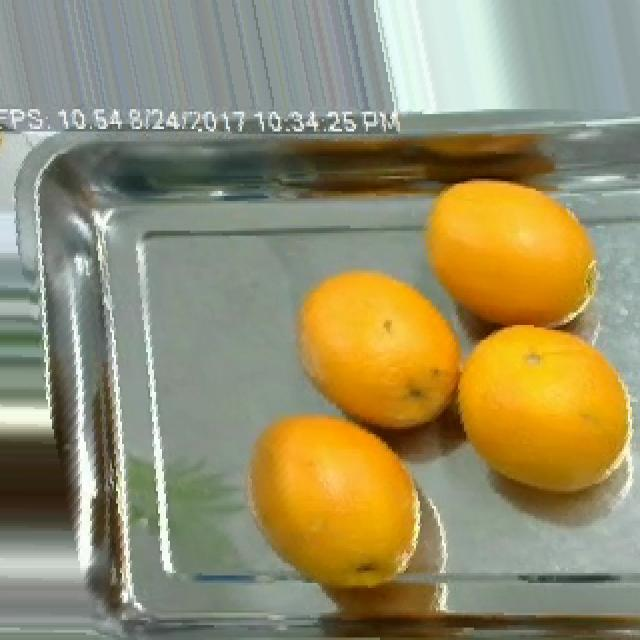Fruit: (278, 255, 480, 459), (410, 166, 612, 355)
